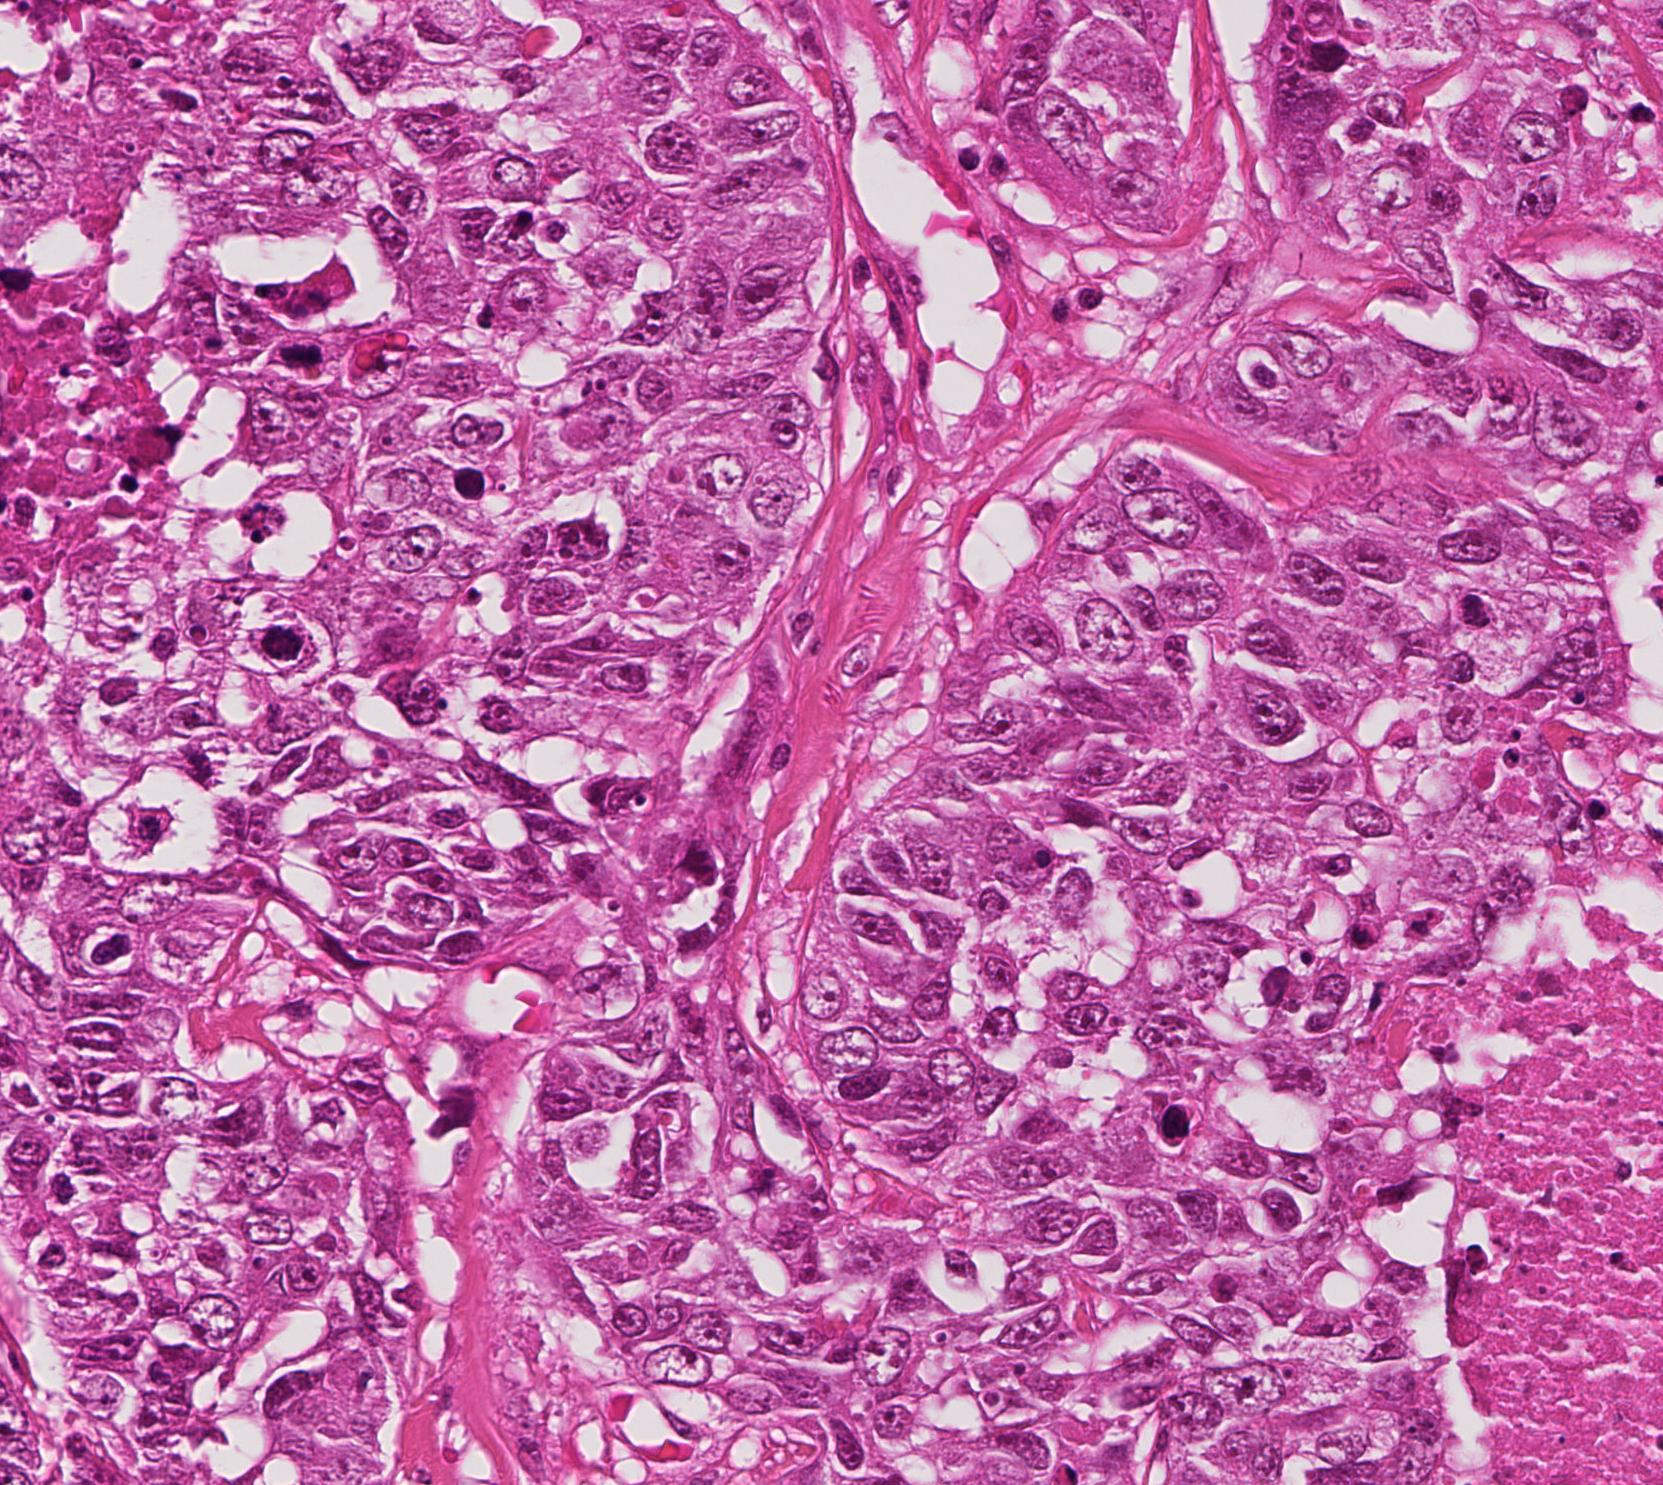mitosis: (254, 605, 314, 665)
